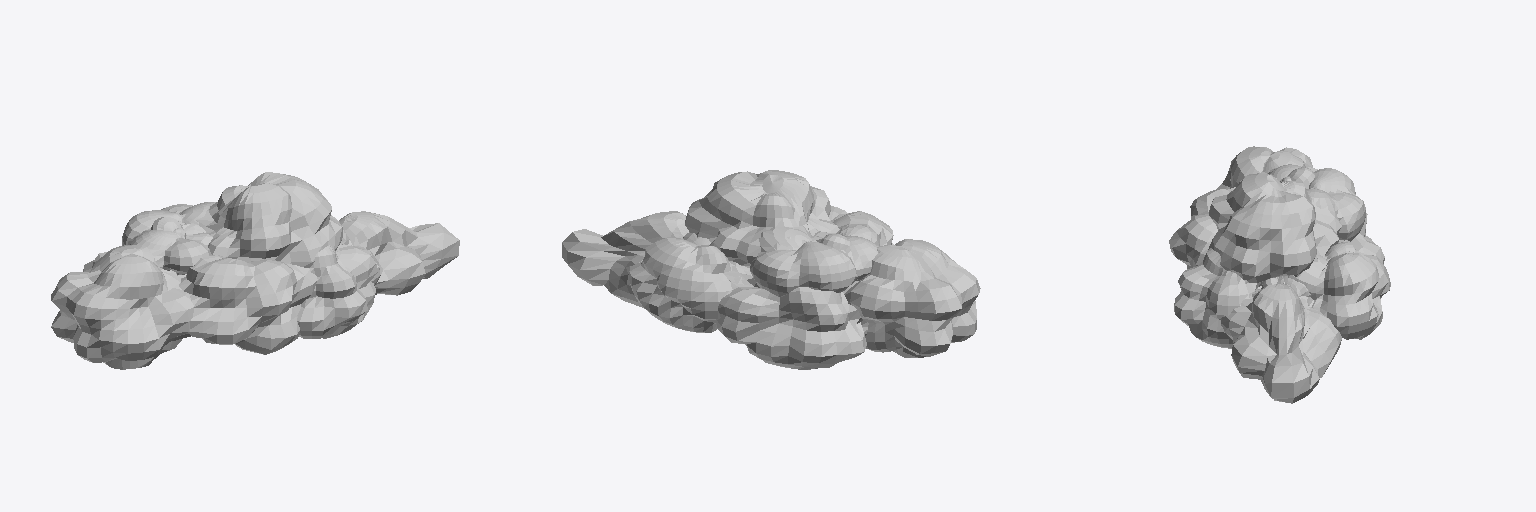
The model's file is claude hasan.obj.
The picture shows the model from 3 angles: view 1: azimuth 30°, elevation 25°; view 2: azimuth 150°, elevation 25°; view 3: azimuth 270°, elevation 25°; orthographic projection.
Visible parts, largest first — view 1: gufim_al_hayad_veze_ma_sheyatzah_Sphere.012; view 2: gufim_al_hayad_veze_ma_sheyatzah_Sphere.012; view 3: gufim_al_hayad_veze_ma_sheyatzah_Sphere.012.
Part boxes in pixels (bbox=[...]): gufim_al_hayad_veze_ma_sheyatzah_Sphere.012: bbox=[51, 172, 459, 369]; gufim_al_hayad_veze_ma_sheyatzah_Sphere.012: bbox=[562, 170, 980, 369]; gufim_al_hayad_veze_ma_sheyatzah_Sphere.012: bbox=[1169, 146, 1390, 403].
Bounding box in the file's own units: 10.24 × 3.75 × 4.94.